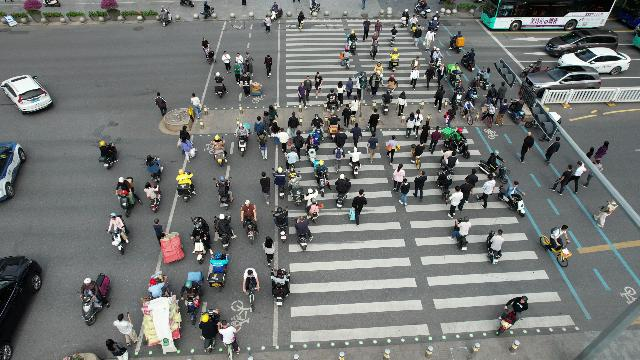non-motor-vehicle: (142, 272, 180, 352), (80, 274, 112, 328), (494, 294, 530, 338), (538, 222, 572, 268), (182, 270, 204, 328), (115, 176, 143, 218), (106, 212, 132, 256), (497, 180, 527, 218), (438, 127, 472, 159), (190, 216, 213, 262), (238, 198, 260, 246), (478, 150, 510, 182), (270, 268, 292, 308), (214, 214, 238, 250), (242, 266, 260, 314), (209, 251, 229, 291), (220, 319, 242, 355), (292, 214, 314, 250), (202, 309, 220, 353), (302, 187, 324, 222), (214, 174, 234, 210), (313, 162, 333, 197), (334, 174, 354, 209), (488, 230, 506, 266), (234, 122, 252, 158), (272, 207, 290, 243), (175, 170, 195, 202), (142, 181, 162, 213), (98, 140, 119, 170), (436, 167, 454, 202), (271, 165, 289, 199), (287, 170, 303, 206), (453, 218, 471, 250), (448, 80, 466, 110), (439, 146, 459, 172), (212, 136, 228, 166), (306, 132, 320, 166), (145, 155, 163, 181), (326, 111, 342, 140), (509, 96, 525, 125), (348, 146, 362, 178), (311, 113, 325, 145), (213, 72, 229, 98), (284, 145, 298, 174), (447, 61, 463, 86), (481, 100, 495, 128), (448, 30, 464, 54), (466, 76, 479, 104), (412, 139, 424, 169), (461, 100, 474, 126), (327, 88, 341, 112), (476, 66, 490, 90), (339, 47, 353, 70), (373, 60, 385, 86), (461, 48, 475, 70), (430, 46, 444, 68), (414, 1, 432, 18), (388, 47, 400, 72), (385, 74, 399, 94), (347, 30, 358, 55), (160, 6, 173, 26), (383, 89, 393, 115), (203, 2, 217, 20), (270, 1, 282, 22), (408, 14, 418, 34), (310, 1, 322, 16), (296, 11, 304, 33), (399, 9, 408, 28), (389, 25, 397, 45), (65, 352, 85, 360), (430, 10, 440, 22), (429, 20, 439, 31), (180, 1, 194, 8)
person: (152, 218, 186, 264), (111, 312, 141, 344), (591, 199, 617, 229), (348, 189, 366, 226), (542, 138, 564, 166), (554, 164, 574, 194), (566, 162, 584, 194), (240, 72, 262, 98), (518, 130, 534, 164), (178, 135, 196, 163), (586, 160, 604, 188), (412, 169, 428, 199), (391, 164, 407, 194), (260, 172, 274, 206), (105, 337, 127, 357), (262, 237, 276, 267), (154, 92, 170, 118), (201, 38, 217, 64), (449, 188, 465, 214), (256, 132, 270, 160), (595, 138, 609, 166), (481, 84, 497, 108), (367, 133, 379, 164), (188, 93, 202, 119), (365, 108, 379, 134), (332, 142, 344, 172), (412, 109, 424, 139), (349, 122, 363, 146), (397, 181, 411, 205), (434, 85, 446, 113), (387, 135, 398, 165), (296, 82, 308, 109), (404, 112, 416, 138), (430, 126, 440, 156), (278, 127, 290, 152), (497, 99, 508, 126), (418, 121, 430, 145), (368, 72, 379, 98), (335, 127, 349, 147), (263, 110, 273, 138), (288, 112, 298, 139), (304, 76, 314, 103), (445, 105, 457, 127), (423, 30, 435, 52), (314, 73, 324, 99), (496, 82, 506, 108), (436, 63, 446, 89), (464, 170, 480, 186), (336, 81, 346, 106), (264, 55, 274, 80), (232, 61, 242, 86), (409, 66, 419, 90), (272, 121, 280, 151), (296, 130, 304, 160), (178, 125, 192, 141), (397, 91, 405, 119), (221, 52, 231, 74), (244, 60, 254, 82), (370, 40, 380, 62), (413, 25, 422, 47), (362, 17, 370, 41), (254, 116, 264, 134), (462, 184, 473, 200), (346, 77, 354, 99), (485, 179, 497, 193), (374, 18, 382, 38), (342, 107, 352, 123), (410, 54, 420, 70), (236, 54, 244, 74), (268, 105, 278, 121), (425, 70, 433, 88), (356, 78, 362, 102), (584, 146, 594, 160), (370, 31, 380, 44), (266, 16, 274, 32), (483, 194, 491, 208), (360, 0, 368, 10), (352, 102, 358, 115), (245, 52, 252, 62)
